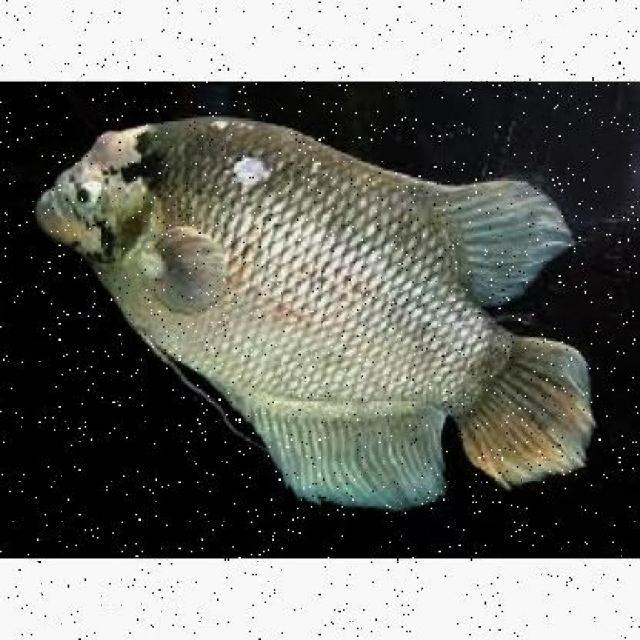gurame: (34, 112, 596, 500)
